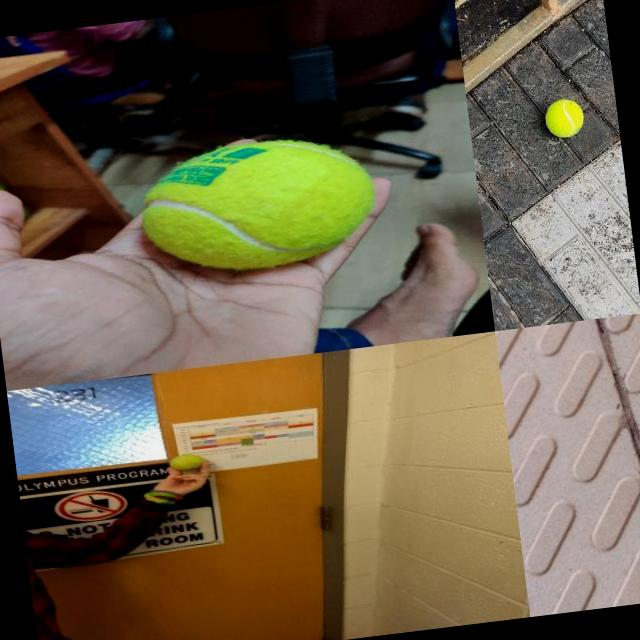tennis-ball: (135, 129, 381, 279), (542, 97, 585, 139), (168, 452, 205, 472)
